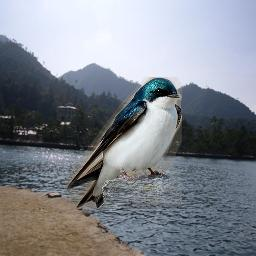Swallow: (66, 77, 182, 209)
